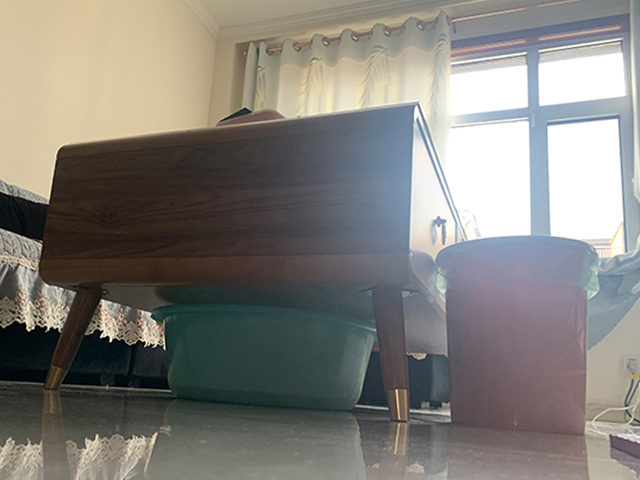table: (37, 101, 474, 424)
trashcan: (434, 235, 599, 438)
wire: (592, 360, 640, 429)
